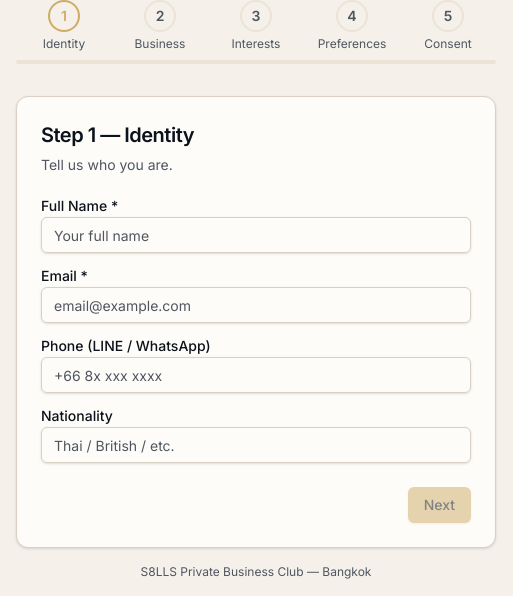
QRRegisterForm › advances to step 2 when Next is clicked on step 1
Type "Alice Smith" into the field with placeholder "Your full name".
click(256, 235); type("Alice Smith")  # box top-left (41, 217), bottom-right (471, 253)
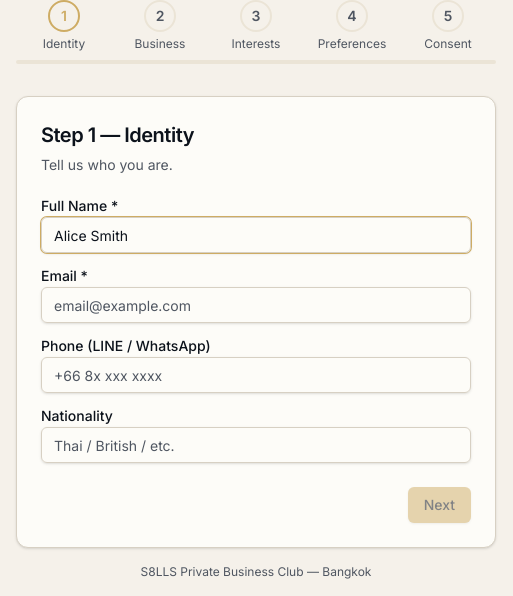
Type "alice@example.com" into the field with placeholder "email@example.com".
click(256, 305); type("alice@example.com")  # box top-left (41, 287), bottom-right (471, 323)
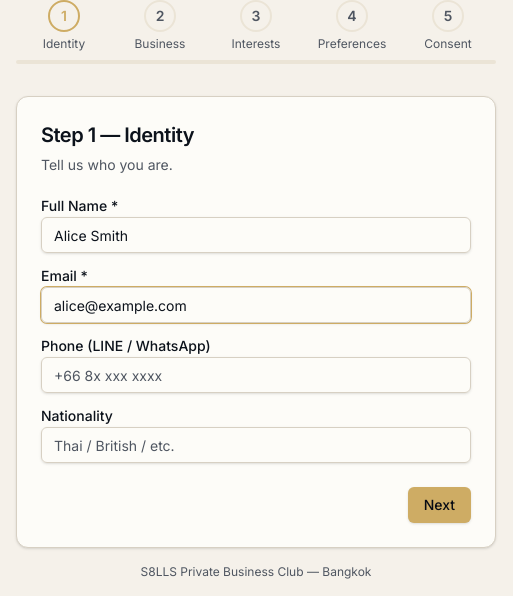
Click the button "Next".
click(439, 505)  # box top-left (408, 487), bottom-right (471, 523)
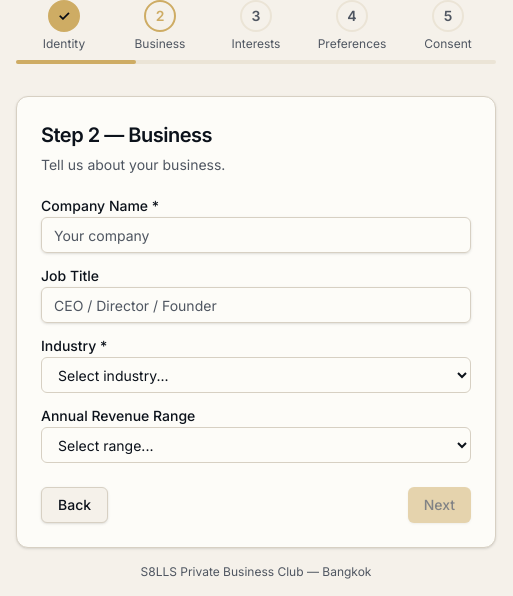
Now the text "Step 2 — Business" is shown, box top-left (41, 123), bottom-right (212, 147)
